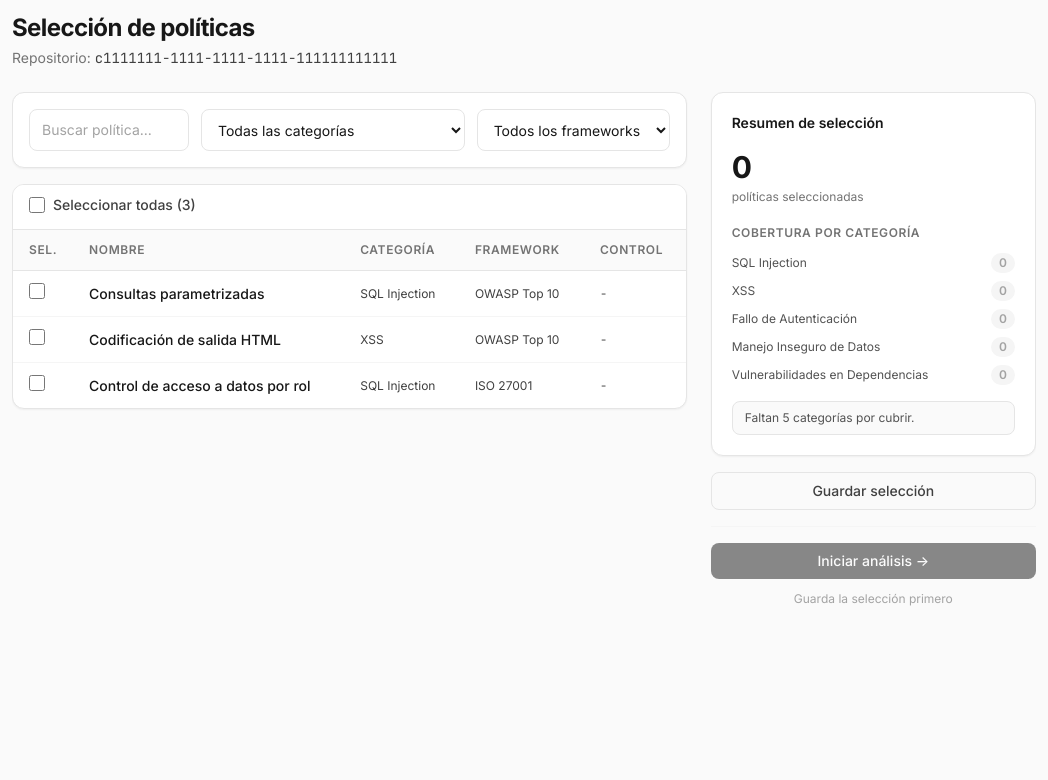
Test: "Seleccionar todas" when choosing the policies to analyze › selects and clears every policy, and the summary follows
Click the checkbox labelled "Seleccionar todas (3)".
click(37, 205)  # box [29,197,45,213]
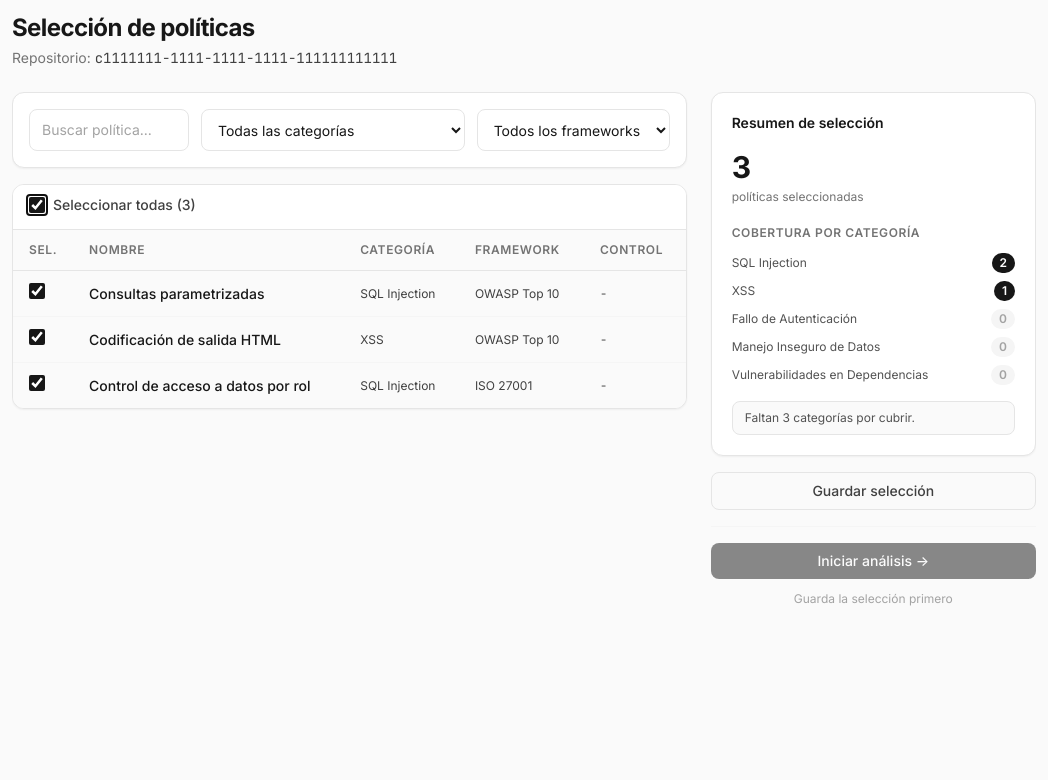
Expected: the text "3" is shown, [732,149,751,185]
Click the checkbox labelled "Seleccionar todas (3)".
click(37, 205)  # box [29,197,45,213]
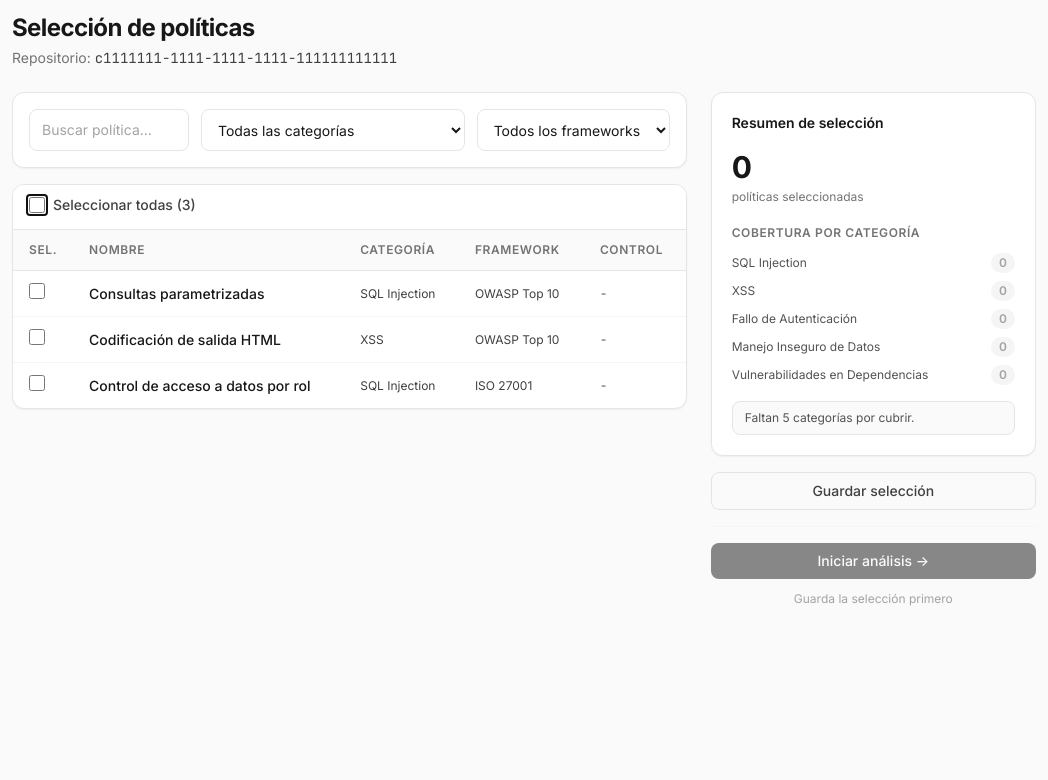
Expected: the 1st text "0" is shown, [732,149,752,185]
